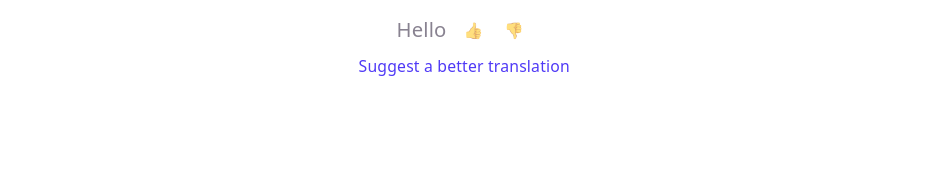
Test: suggesting › sends the suggestion, closes the form and thanks the learner
Step 1. Click the button "Suggest a better translation" → {"x": 464, "y": 66}, box [359,55,570,77]
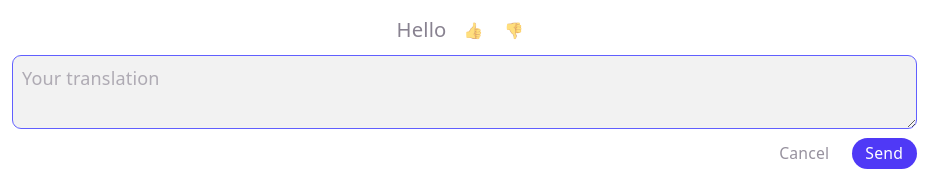
Step 2. Type "Hi there" into the text box with placeholder "Your translation" → {"x": 464, "y": 92}, box [12,55,916,129]
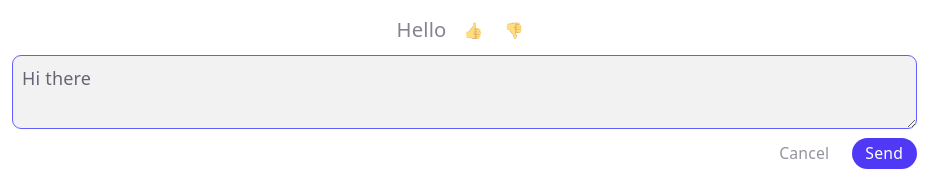
Step 3. Submit the form, box [12,55,916,169]
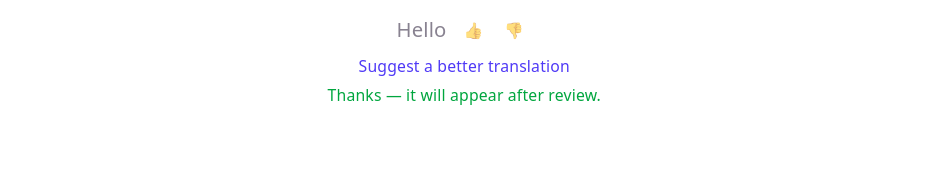
Expected: the text "Thanks — it will appear after review." is shown, [328,84,601,106]
